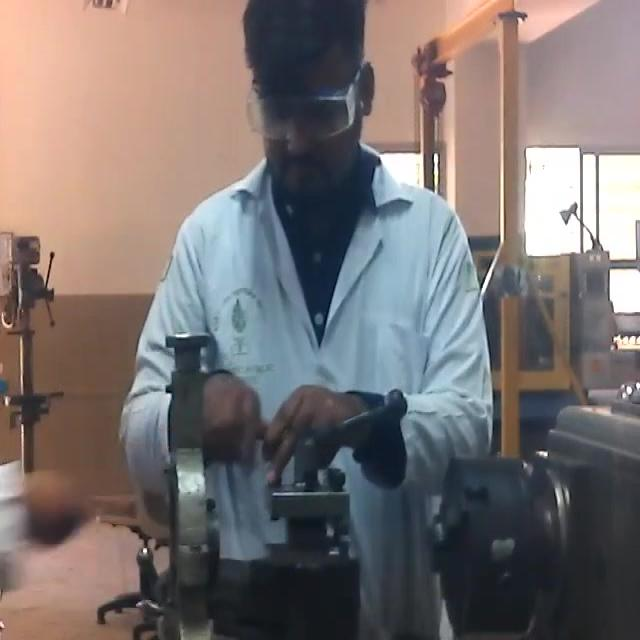googles: (250, 85, 355, 143)
labcoat: (123, 140, 495, 640)
